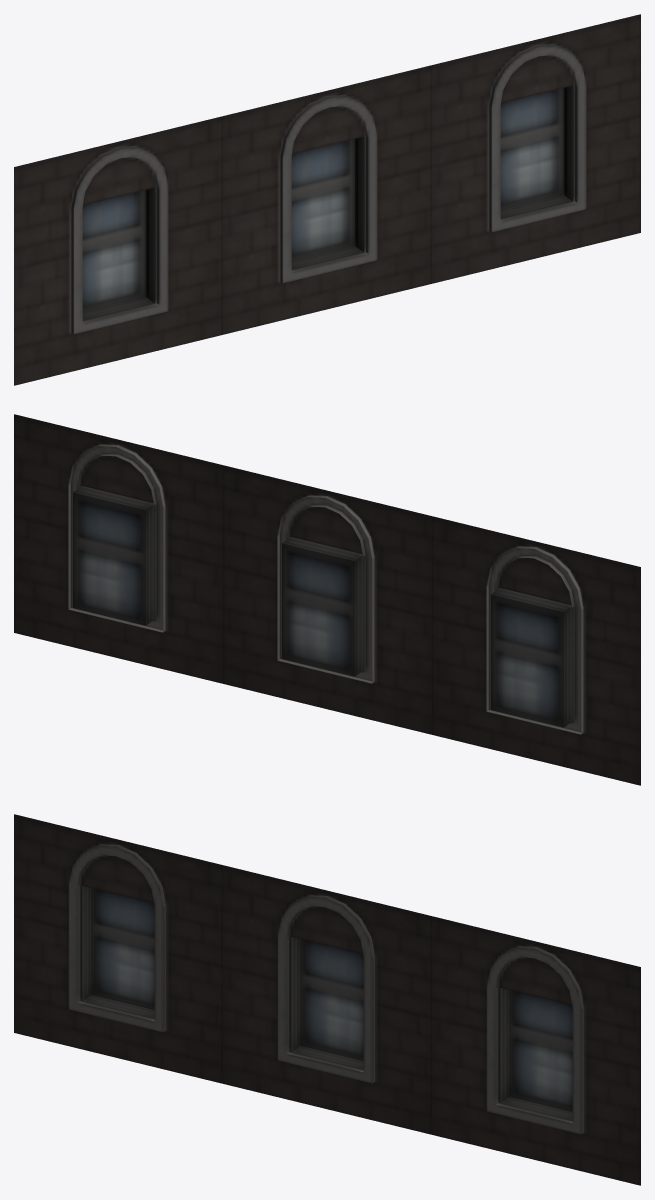
File: B11_Window3x.FBX
The picture shows the model from 3 angles, top to bottom: view 1: azimuth 30°, elevation 25°; view 2: azimuth 150°, elevation 25°; view 3: azimuth 330°, elevation 25°; orthographic projection.
Visible parts, largest first — view 1: B11_Window3x; view 2: B11_Window3x; view 3: B11_Window3x.
Part boxes in pixels (<box>): B11_Window3x: <box>14,14,640,385</box>; B11_Window3x: <box>14,414,640,785</box>; B11_Window3x: <box>14,814,640,1185</box>.
Size of the model in its own units: 12 by 4 by 0.3784.
